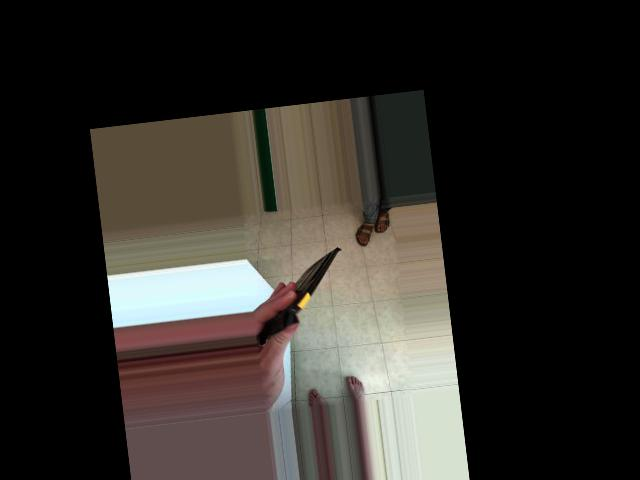chocolate: (286, 253, 391, 356)
